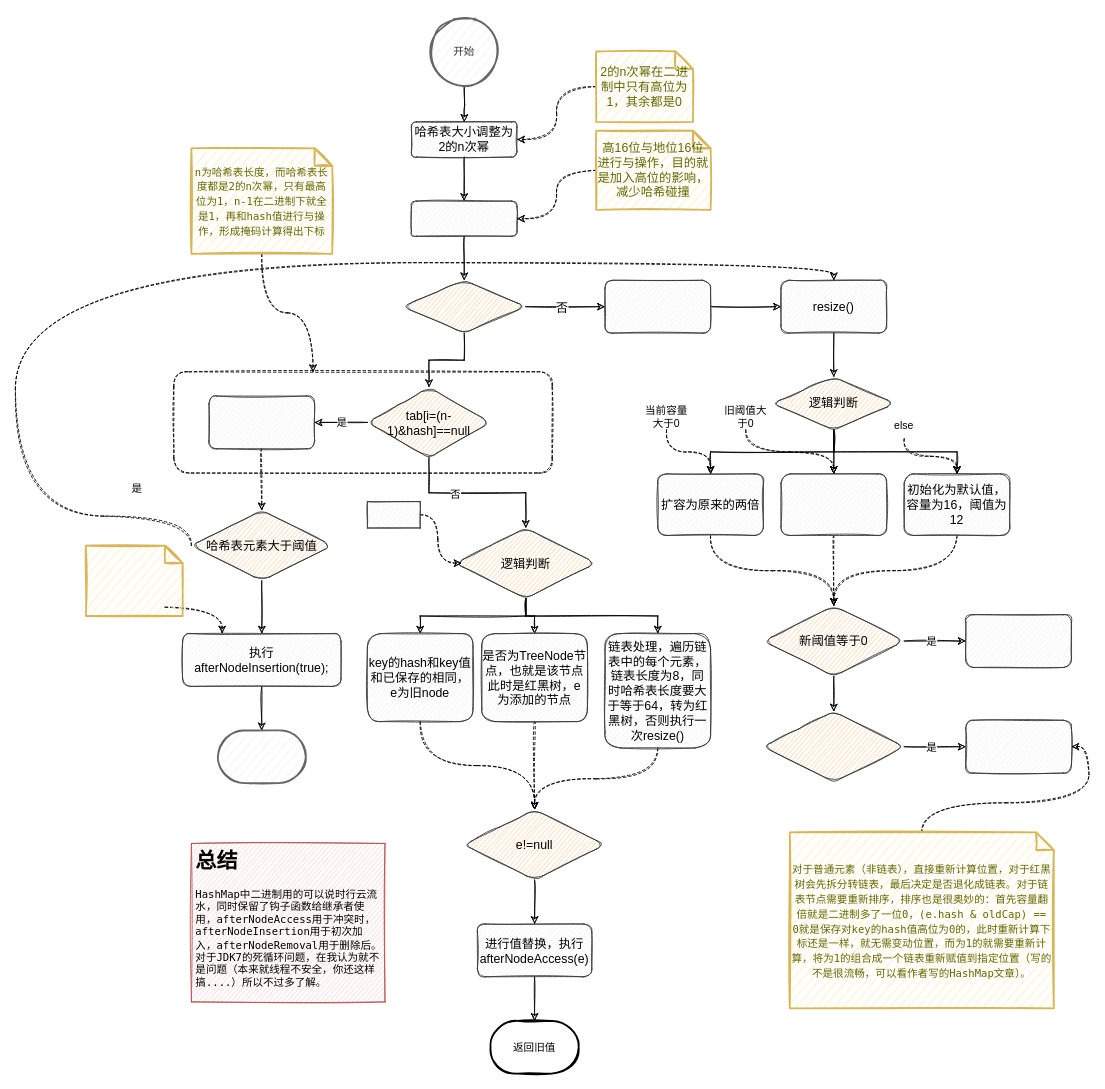
Image size: 1105x1089. Some labels were removed from this diagram. Here are the shapes that lost their labels. From the top down, the box of each, then its label:
(411, 200, 517, 236): 计算哈希值
(402, 279, 526, 333): 是否初始化
(604, 279, 711, 333): 调用resize()
(208, 395, 315, 449): 将当前值封装为Node节点保存
(367, 501, 420, 528): 冲突
(780, 473, 887, 535): 新容量等于该阈值，这个逻辑是处理构造方法传了指定阈值。
(84, 544, 183, 616): 默认空实现，钩子方法
(965, 614, 1071, 667): 通过负载因子计算一个
(216, 729, 306, 784): return null
(763, 711, 904, 782): 旧table不为空
(965, 719, 1071, 773): 移动旧值位置
